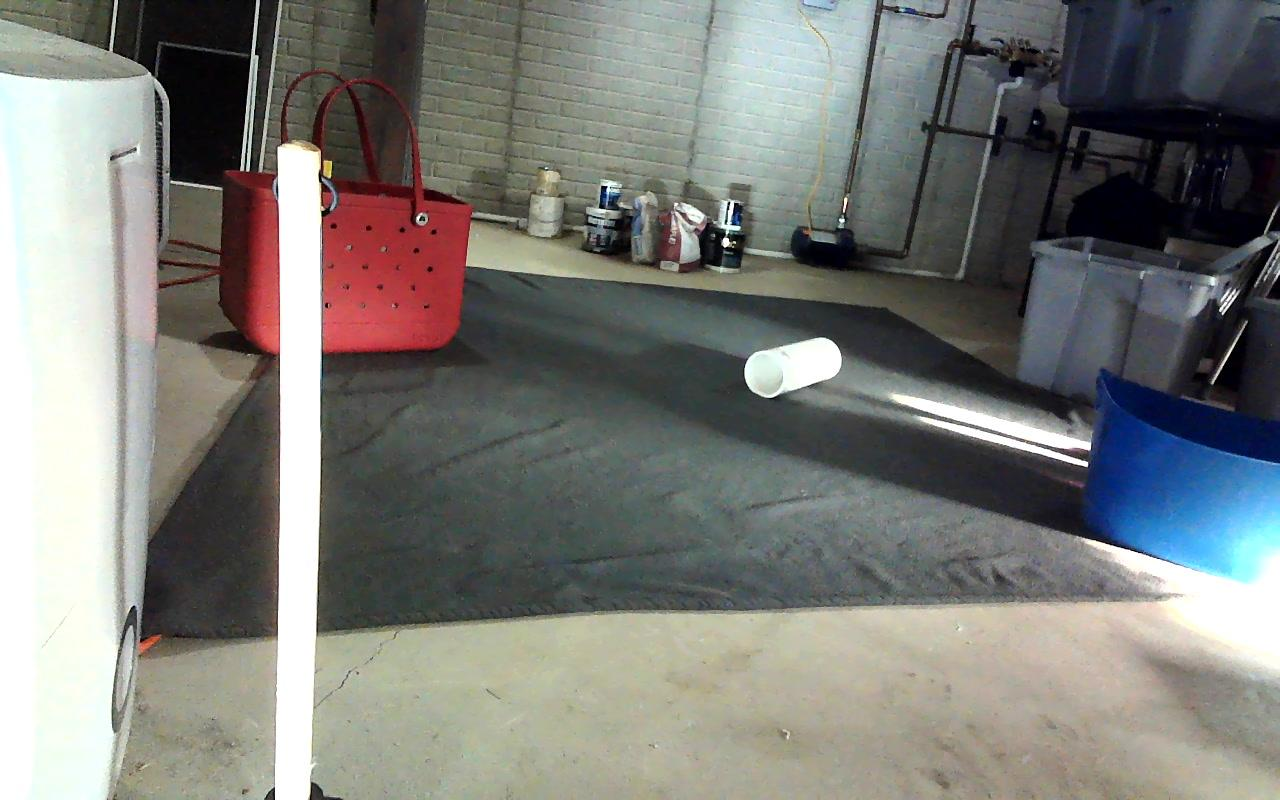coral: (744, 337, 842, 398)
